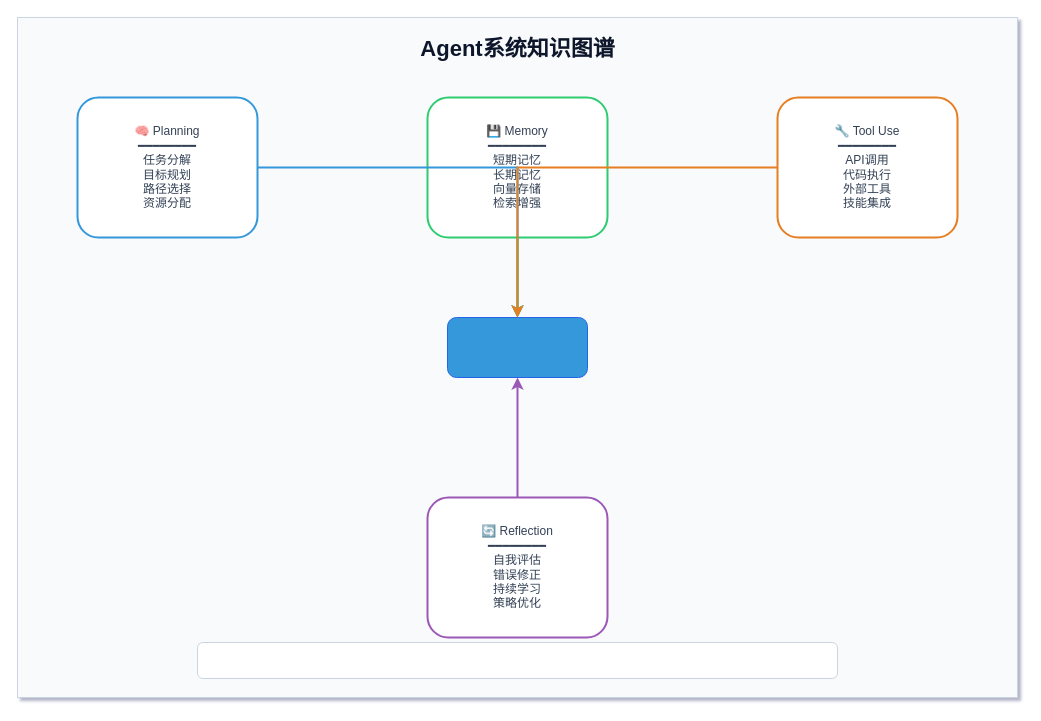
The diagram is 1041 pixels wide and 721 high, and some of its shapes have lost their labels. The box of each missing label's shape, as (x1, y1, x2, y2) in pixels:
Agent系统 核心体系: (446, 316, 588, 378)
图例： 🔵 Planning 🟢 Memory 🟠 Tool Use 🟣 Reflection 四者协同构成Agent核心能力: (196, 642, 838, 678)
